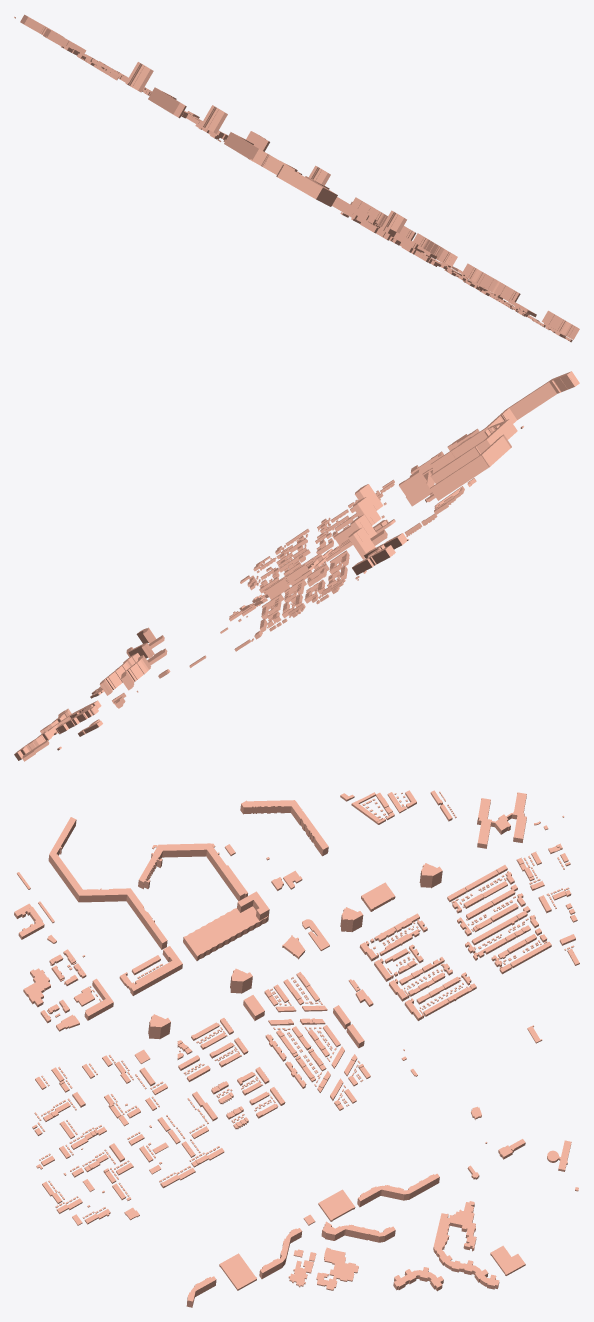
3 views of the same model, one above another, from view 1: azimuth 30°, elevation 25°; view 2: azimuth 150°, elevation 25°; view 3: azimuth 270°, elevation 25° (orthographic). The views are drawn at different scales.
Size of the model in its own units: 1040 by 763 by 1220.
